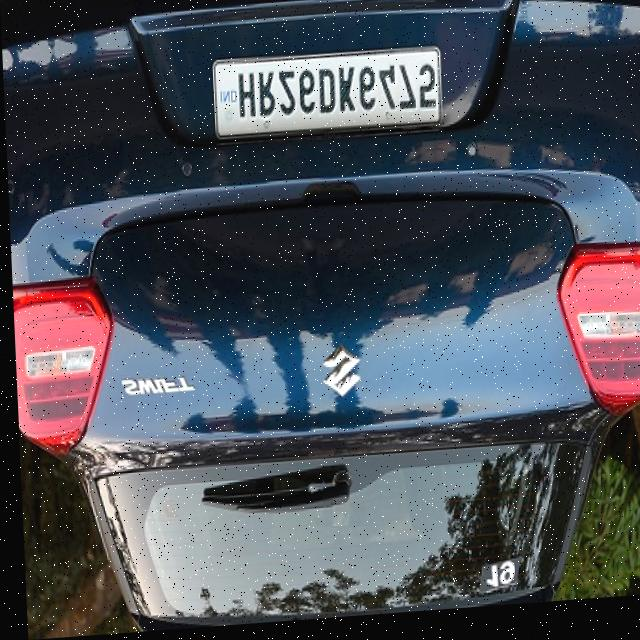plate: (208, 51, 443, 149)
